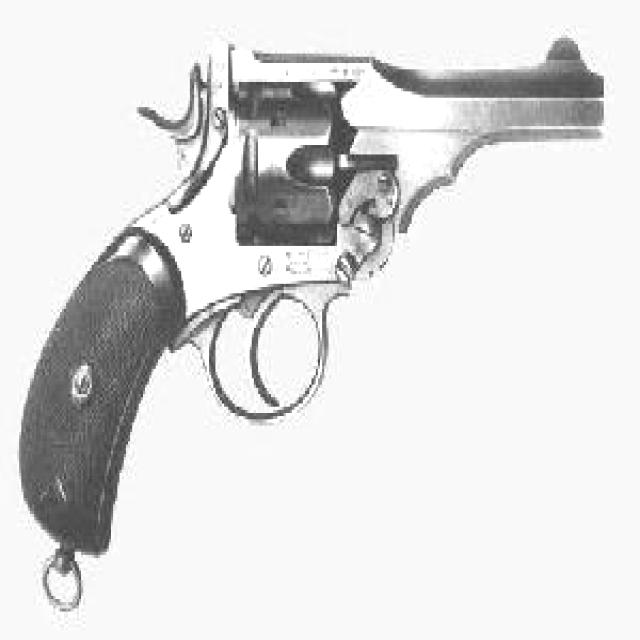pistol: (15, 32, 602, 542)
